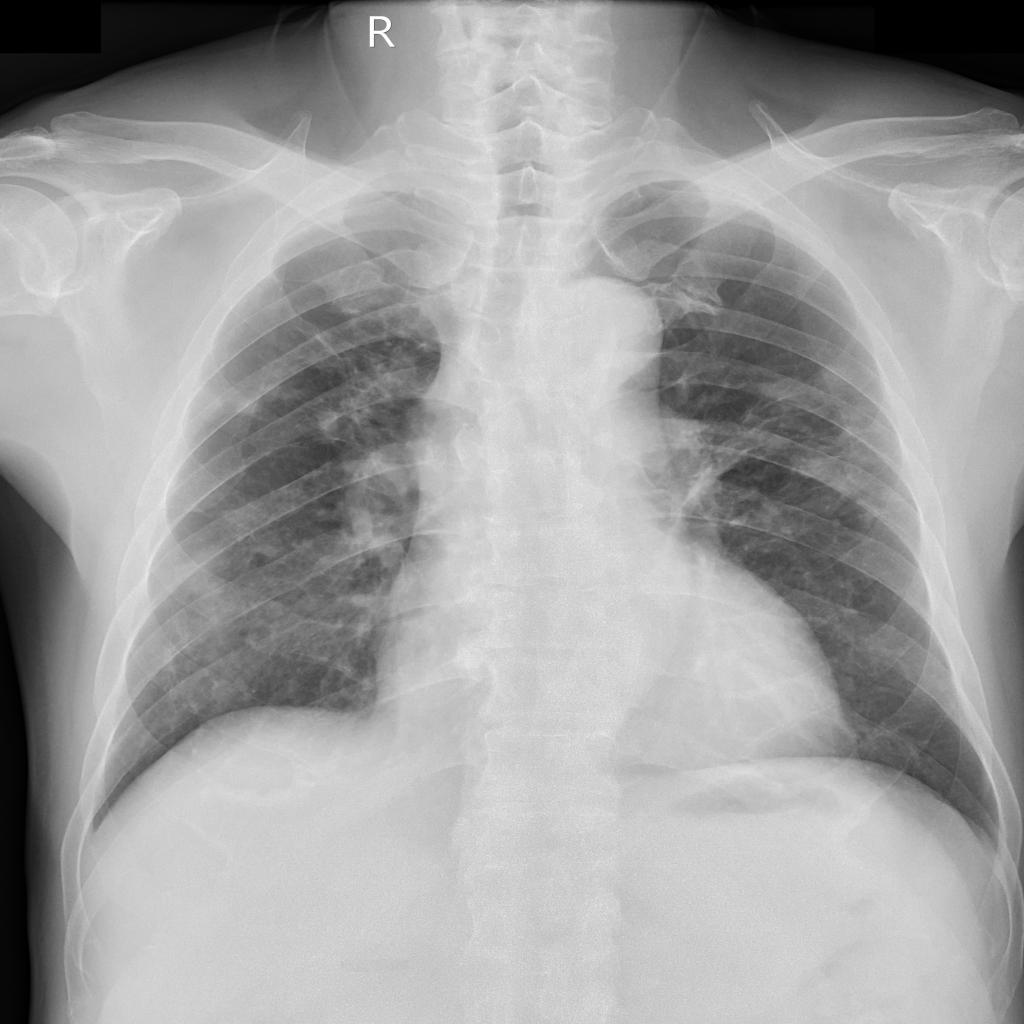Nodule: (791, 441, 829, 470), (774, 378, 808, 410), (266, 368, 297, 401), (757, 428, 793, 456), (341, 398, 372, 422), (815, 494, 842, 518), (360, 428, 383, 446), (236, 401, 260, 417), (370, 387, 392, 404), (208, 577, 226, 595), (745, 485, 762, 502), (267, 602, 284, 619), (185, 657, 200, 672), (317, 510, 333, 524), (323, 431, 338, 445), (324, 420, 340, 432), (264, 546, 279, 558), (291, 366, 306, 377), (344, 351, 356, 363), (204, 655, 215, 664)
